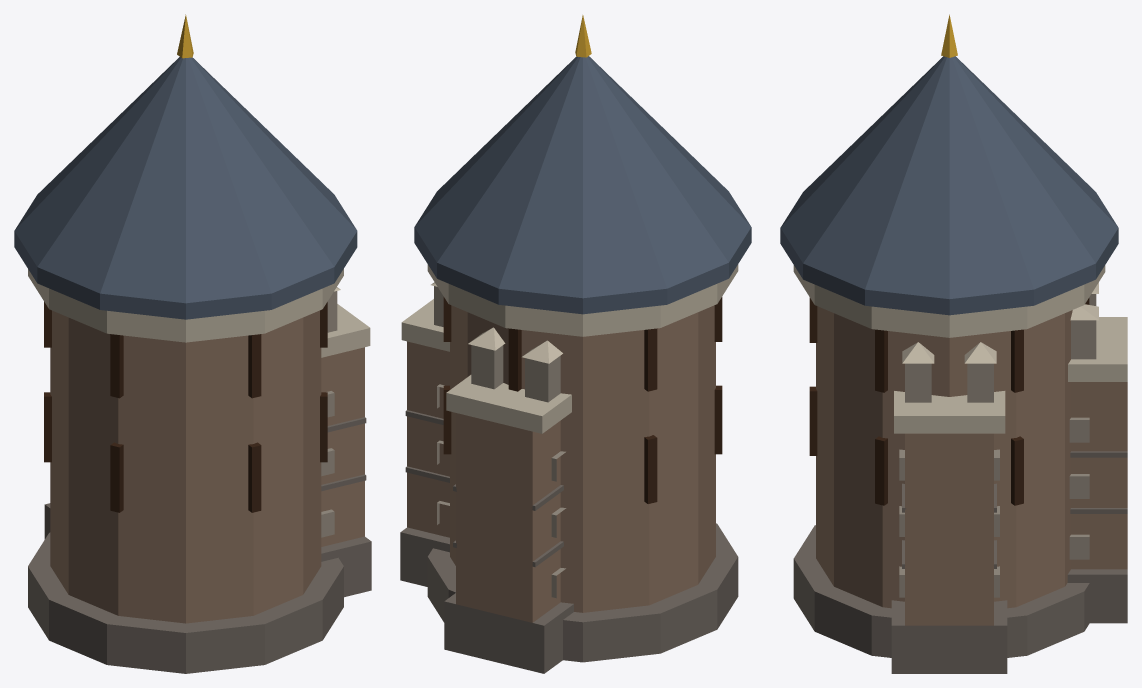
Rendered from wall_corner_tower.fbx.
3 renders of one model, left to right at view 1: azimuth 30°, elevation 25°; view 2: azimuth 150°, elevation 25°; view 3: azimuth 270°, elevation 25°, orthographic.
Visible parts, largest first — view 1: wall_corner_tower; view 2: wall_corner_tower; view 3: wall_corner_tower.
Part boxes in pixels (left/top/right/bottom): wall_corner_tower: left=14, top=14, right=371, bottom=673; wall_corner_tower: left=400, top=15, right=751, bottom=673; wall_corner_tower: left=780, top=14, right=1127, bottom=673.
Bounding box in the file's own units: 3.9 × 7.25 × 3.9.
